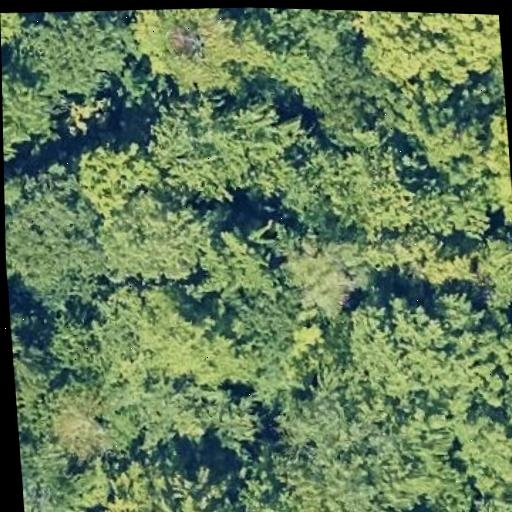tree-top: (284, 373, 448, 512), (339, 283, 504, 409), (138, 83, 305, 206), (7, 6, 153, 115), (86, 189, 229, 292), (4, 168, 106, 312), (123, 4, 258, 106), (101, 368, 257, 452), (352, 10, 504, 86), (136, 298, 243, 399), (328, 138, 430, 243), (300, 37, 394, 148), (99, 441, 242, 512), (188, 230, 286, 314), (73, 130, 159, 221), (278, 234, 371, 317), (228, 289, 302, 381), (1, 51, 58, 170), (19, 434, 104, 512), (449, 406, 512, 509), (411, 172, 497, 247), (413, 99, 491, 180), (9, 307, 59, 428), (39, 303, 112, 379), (469, 221, 512, 314), (52, 394, 108, 462), (482, 98, 511, 174), (452, 484, 512, 512), (0, 11, 29, 58), (497, 354, 512, 438)
